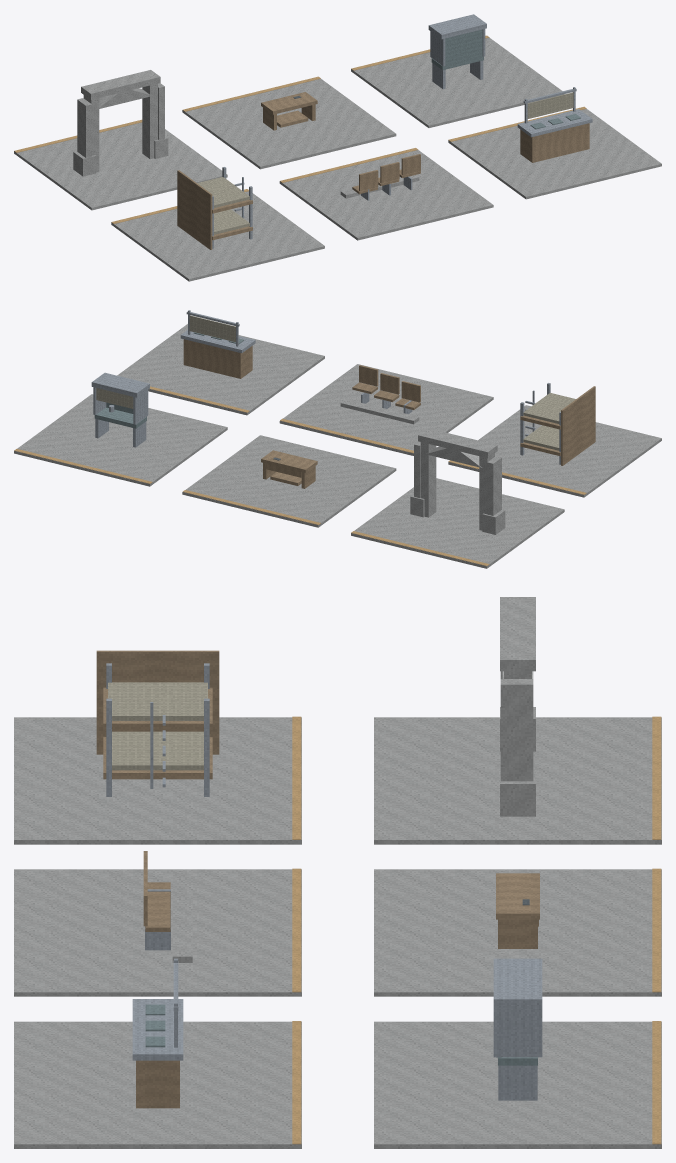
The model's file is level_blockout_kit_academy_p02.glb.
The picture shows the model from 3 angles, top to bottom: view 1: azimuth 30°, elevation 25°; view 2: azimuth 150°, elevation 25°; view 3: azimuth 270°, elevation 25°; orthographic projection. The views are drawn at different scales.
Parts seen in each view (by area): view 1: level_blockout_kit_academy_p02; view 2: level_blockout_kit_academy_p02; view 3: level_blockout_kit_academy_p02.
Part boxes in pixels (<box>): level_blockout_kit_academy_p02: <box>14,14,661,281</box>; level_blockout_kit_academy_p02: <box>14,310,661,568</box>; level_blockout_kit_academy_p02: <box>14,597,661,1148</box>.
Size of the model in its own units: 19.65 by 3.32 by 12.6.
7 materials, 7 textured.
